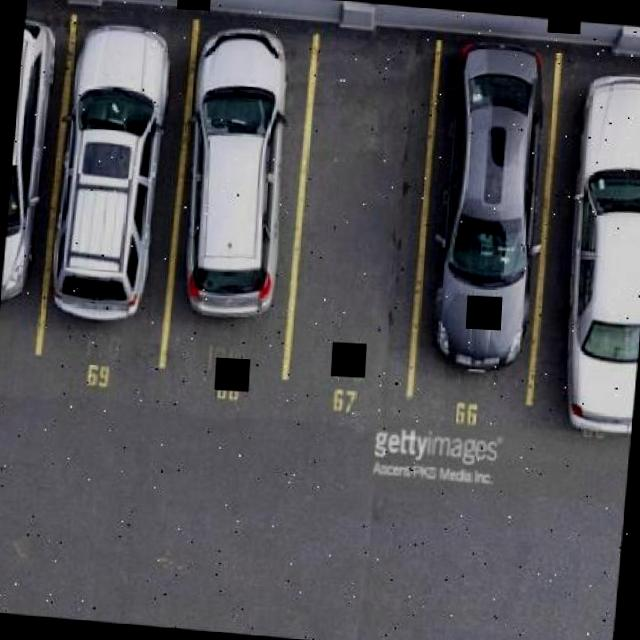car: (427, 22, 564, 387), (169, 11, 309, 346), (50, 27, 186, 341), (537, 44, 640, 445), (0, 16, 53, 337)
free: (294, 37, 434, 399)
